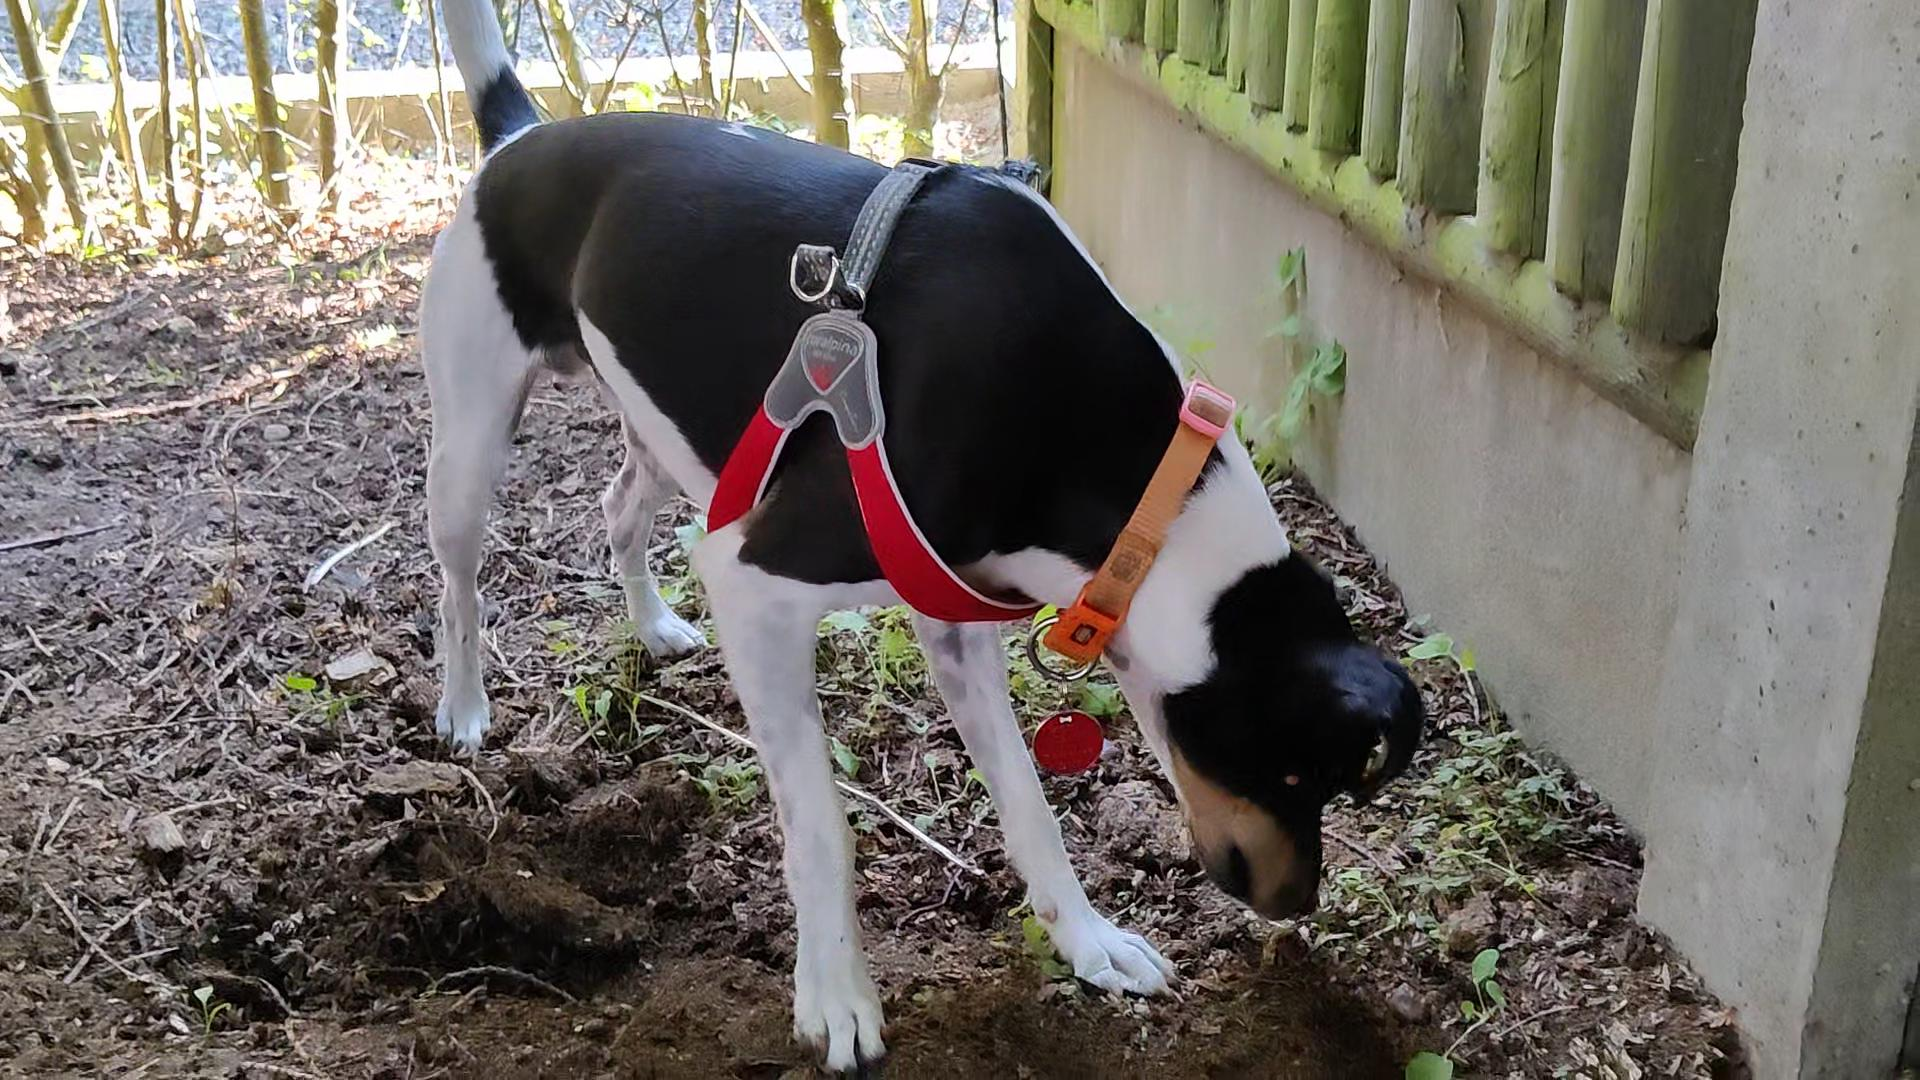Dog: (397, 0, 1445, 1079)
